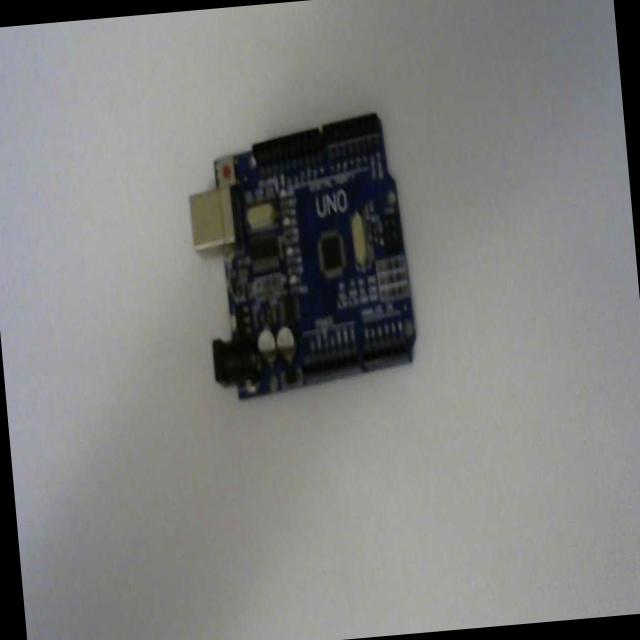arduino: (182, 100, 422, 402)
